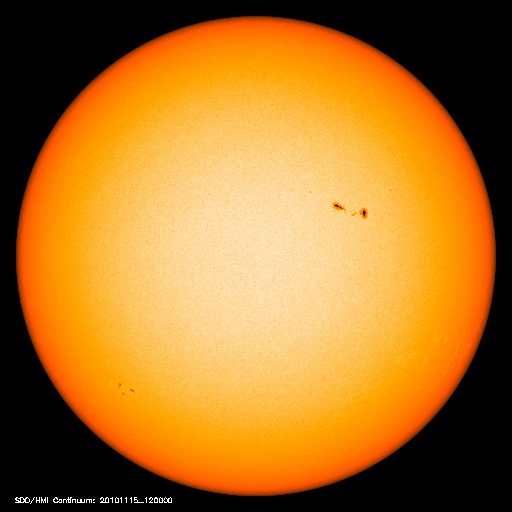sunspot: (297, 180, 397, 223), (108, 374, 141, 401)
